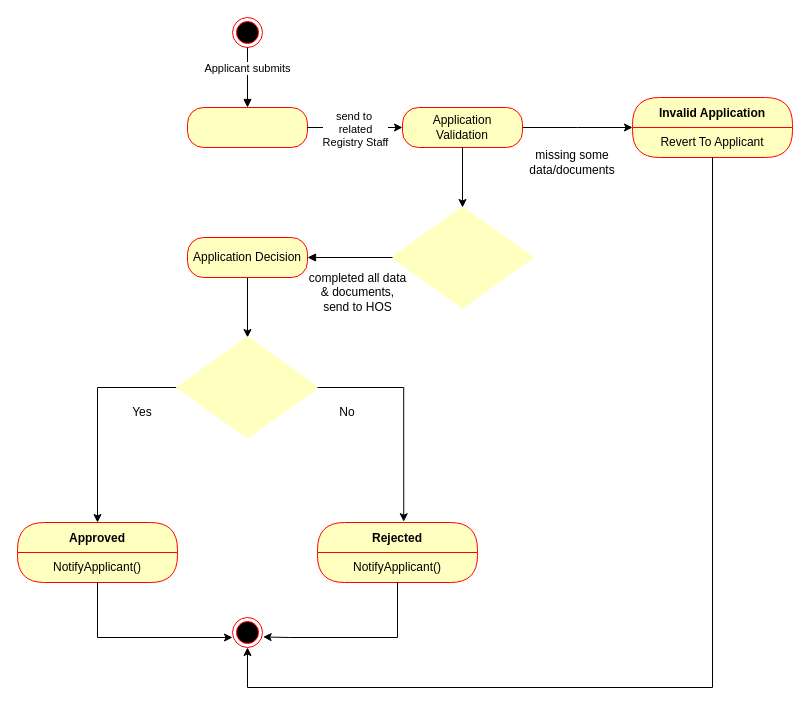
Some shapes in this 810 by 713 pixel diagram are drawn without their labels. Here are the shapes that lost their labels. From the top down, the box of each, then its label:
(186, 106, 308, 148): New Application
(391, 206, 533, 308): Completed Data & Documents
(176, 336, 318, 438): Meet All Requirements
